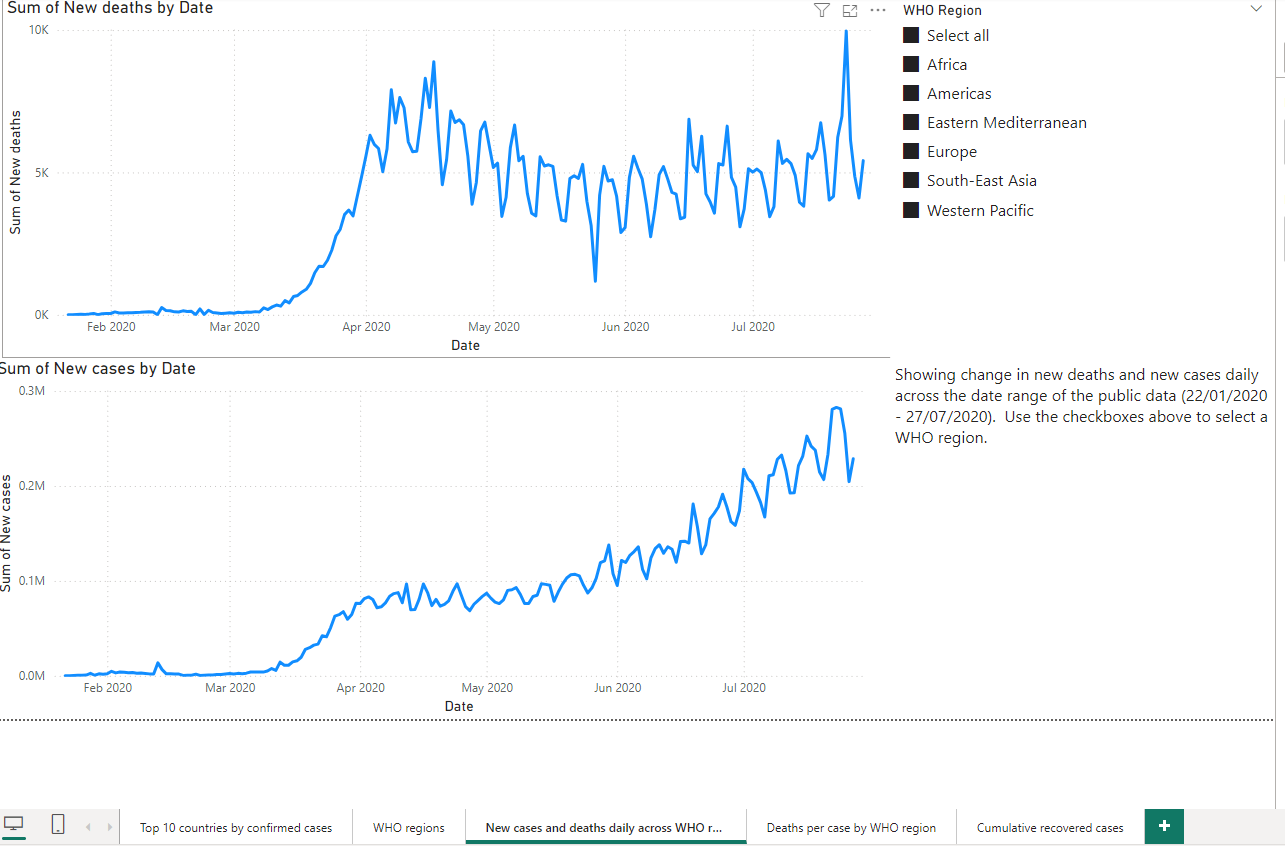

The page's visual inventory and layout, read from the dashboard file:
{"tool":"powerbi","page":{"name":"New cases and deaths daily across WHO region","canvas":[1280,720],"ordinal":2},"visuals":[{"type":"lineChart","fields":{"Category":["full_grouped.Date"],"Y":["Sum(full_grouped.New deaths)"]},"box":[10.5,0,886.2,360.1],"z":0},{"type":"lineChart","fields":{"Category":["full_grouped.Date"],"Y":["Sum(full_grouped.New cases)"]},"box":[0,360.1,886.2,360.1],"z":1000},{"type":"slicer","fields":{"Values":["full_grouped.WHO Region"]},"box":[895.5,0,384.5,360.1],"z":2000},{"type":"textbox","box":[896,360,384,360],"z":3000}]}

Visuals, with their boxes on the page's 1280x720 design canvas (x1, y1, x2, y2). These are canvas units, not pixel positions in the 1285x846 screenshot, which may show the page scaled, cropped or inside an application window:
lineChart - full_grouped.Date x Sum(full_grouped.New deaths): locate(10, 0, 897, 360)
lineChart - full_grouped.Date x Sum(full_grouped.New cases): locate(0, 360, 886, 720)
slicer - full_grouped.WHO Region: locate(896, 0, 1280, 360)
textbox: locate(896, 360, 1280, 720)
